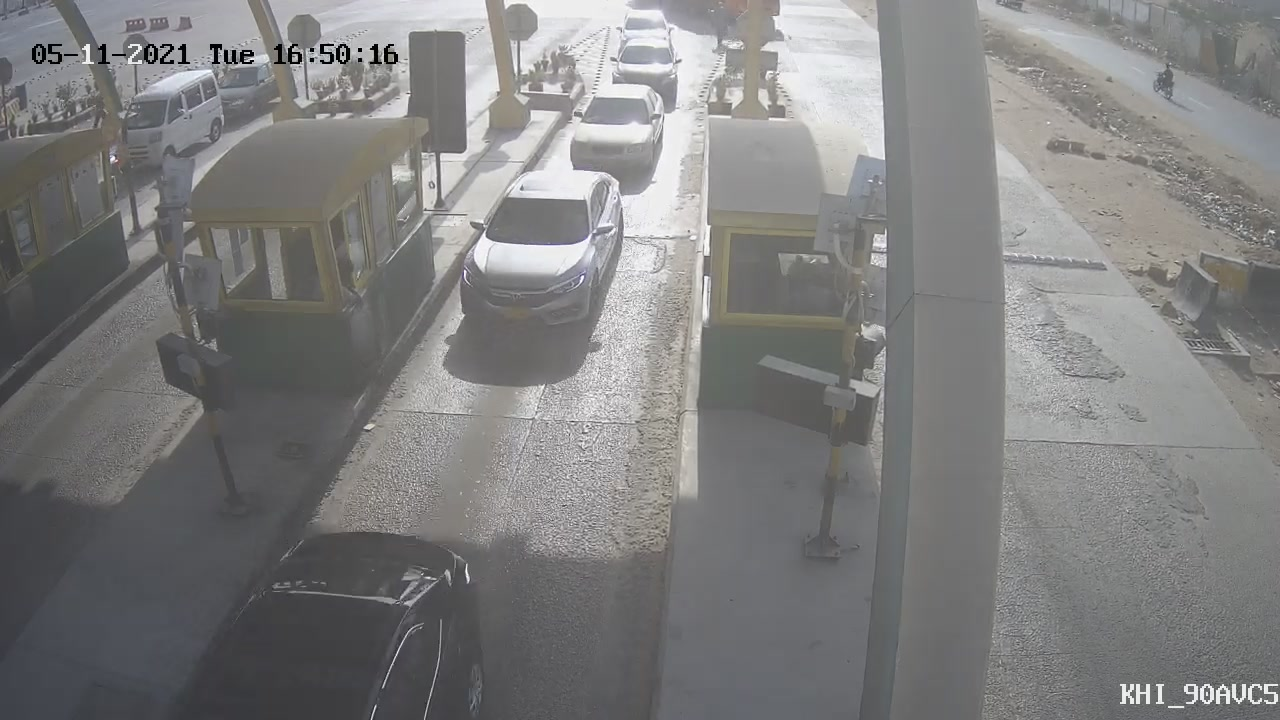F1: (438, 159, 639, 353), (553, 74, 681, 196)
